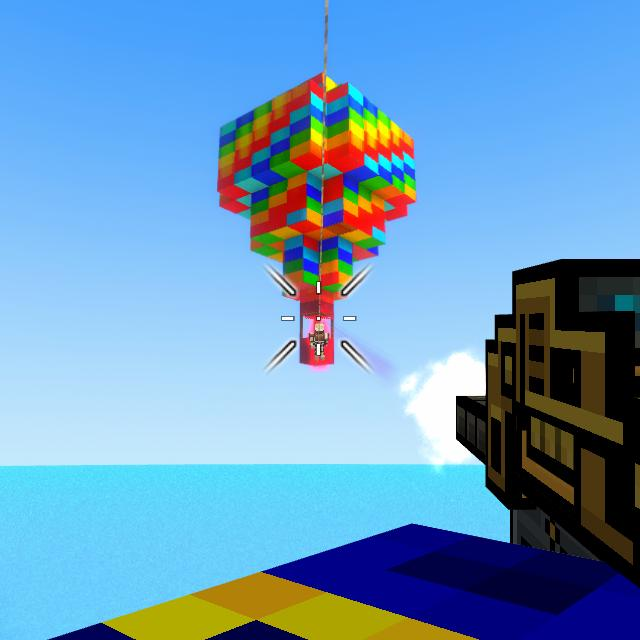Enemy: (309, 322, 331, 362)
